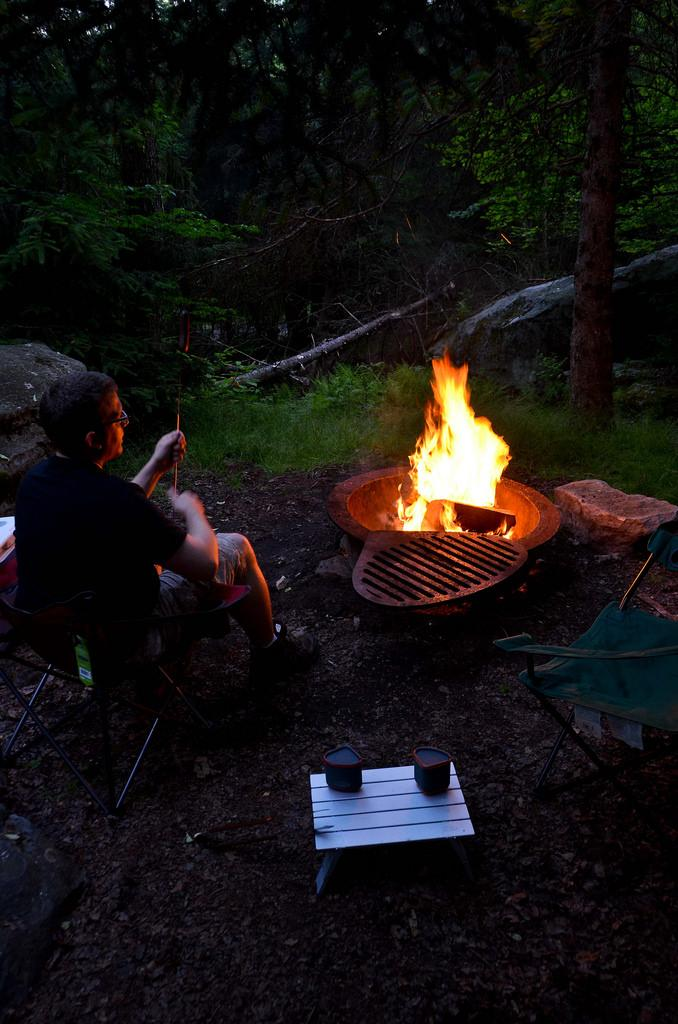fire: (418, 430, 505, 500)
